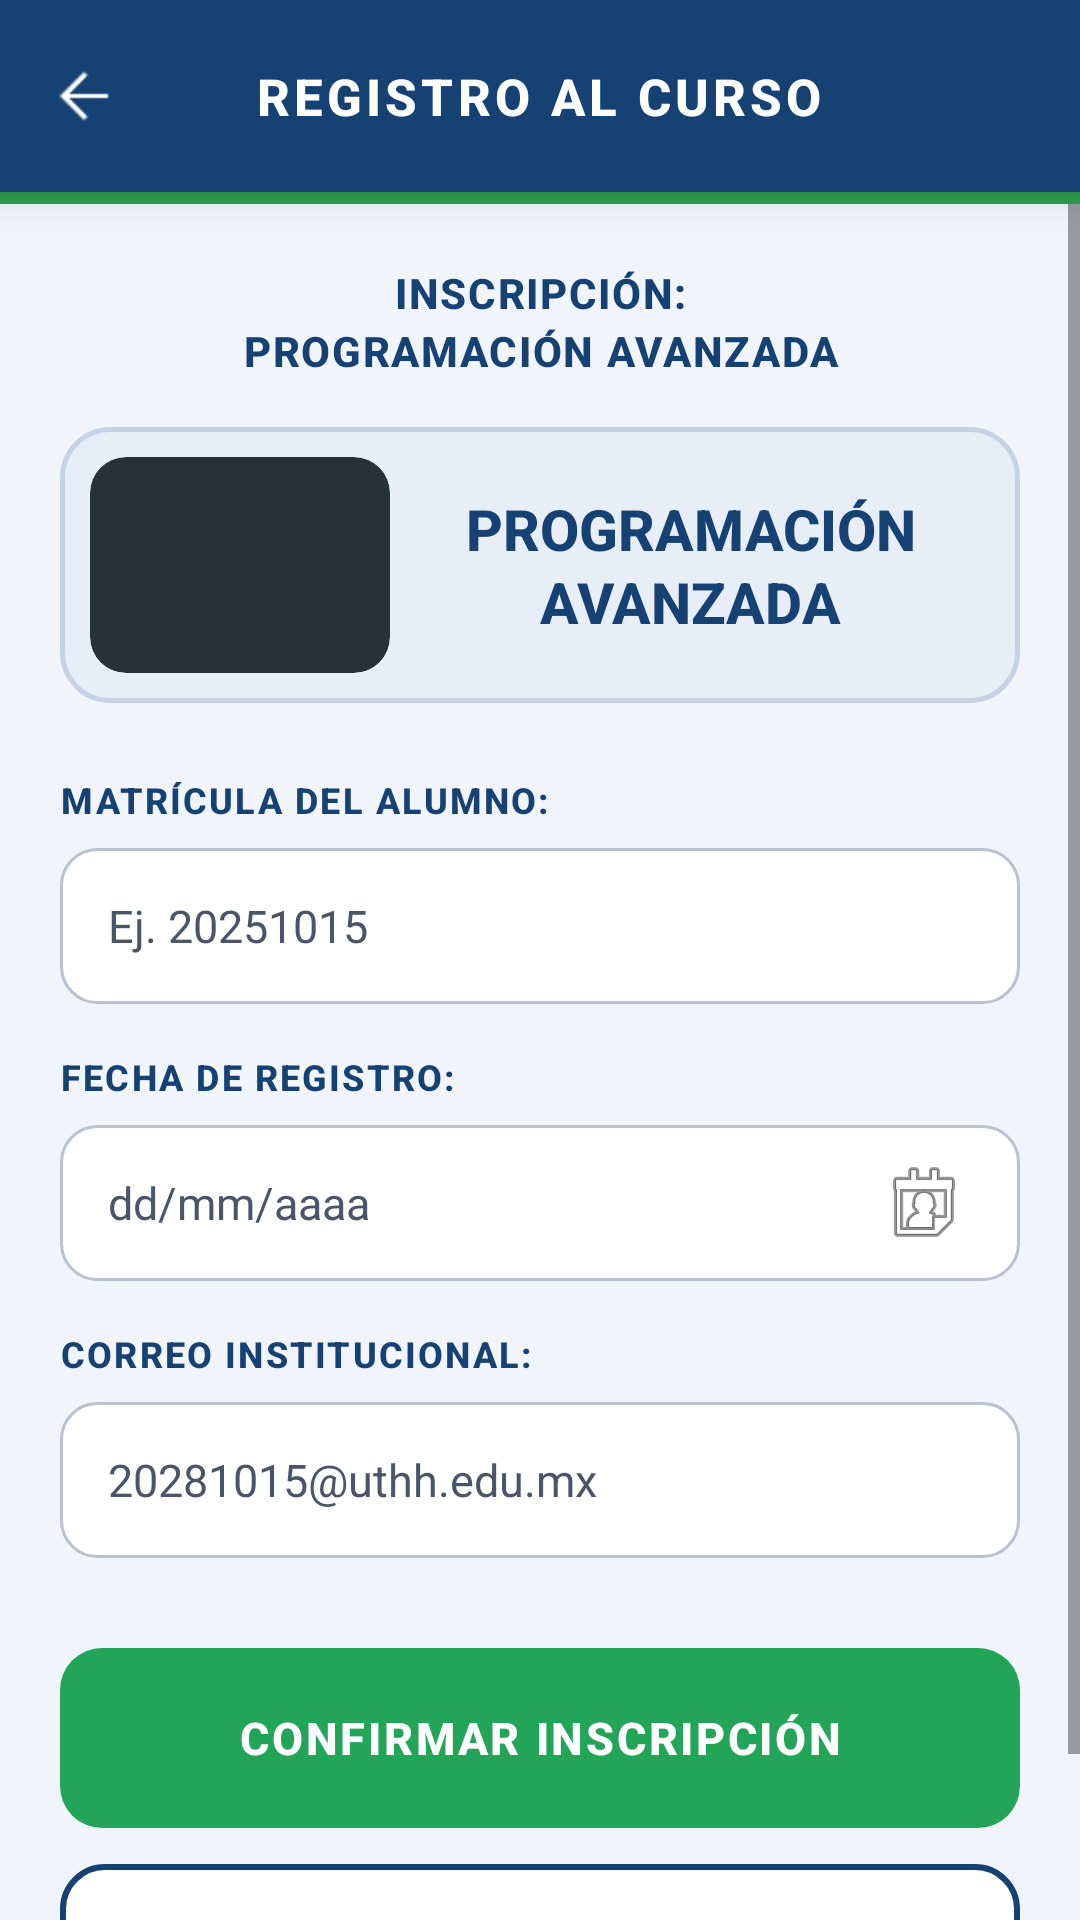

Point at icon controls on the screen. Image size 1080px x 1920px, points as point (x, y).
Regresar: point (84, 96)
